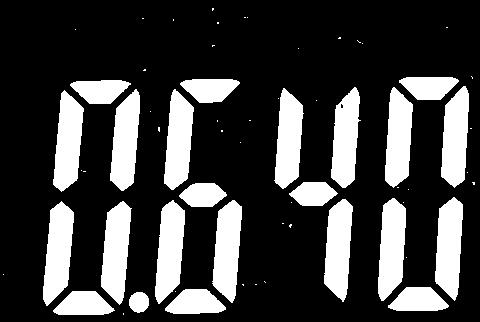0: (40, 80, 143, 317), (373, 73, 472, 313)
4: (270, 86, 364, 304)
6: (155, 75, 250, 317)
dot: (128, 288, 153, 315)
